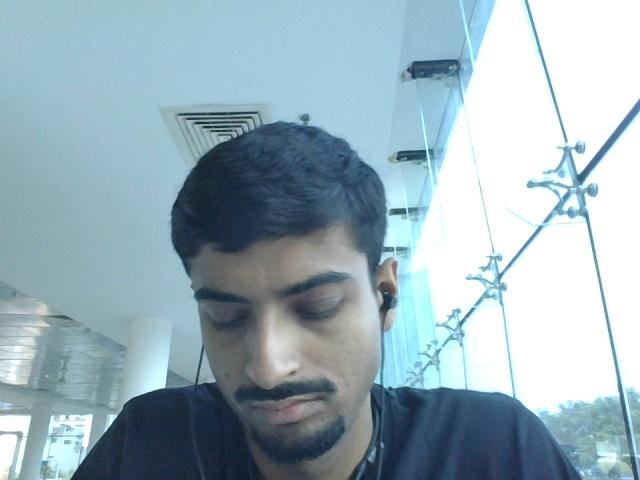average: (159, 116, 387, 453)
